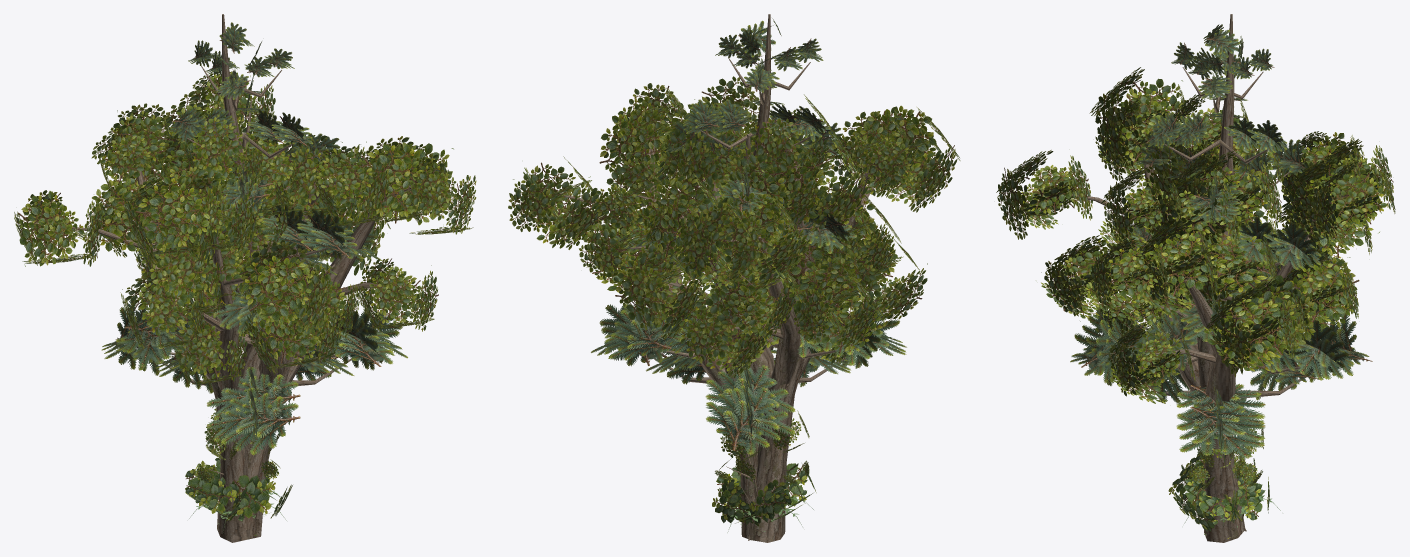
Rendered from flora-low-r15.glb.
3 renders of one model, left to right at view 1: azimuth 30°, elevation 25°; view 2: azimuth 150°, elevation 25°; view 3: azimuth 270°, elevation 25°, orthographic. The views are drawn at different scales.
Visible parts, largest first — view 1: alderTall_volumetric_leaf_clusters, alder_volumetric_leaf_clusters, pine_volumetric_leaf_clusters, alderTall_rooted_branch_skeleton, hazelShrub_botanical_foliage, alder_rooted_branch_skeleton, pine_rooted_branch_skeleton, alderSapling_botanical_foliage; view 2: alderTall_volumetric_leaf_clusters, alder_volumetric_leaf_clusters, pine_volumetric_leaf_clusters, alderTall_rooted_branch_skeleton, hazelShrub_botanical_foliage, pine_rooted_branch_skeleton, alder_rooted_branch_skeleton, alderSapling_botanical_foliage; view 3: alder_volumetric_leaf_clusters, pine_volumetric_leaf_clusters, alderTall_volumetric_leaf_clusters, alder_rooted_branch_skeleton, hazelShrub_botanical_foliage, pine_rooted_branch_skeleton, alderSapling_botanical_foliage, alderTall_rooted_branch_skeleton.
Part boxes in pixels (<box>): alderTall_volumetric_leaf_clusters: <box>14,103,389,350</box>; alder_volumetric_leaf_clusters: <box>90,71,476,384</box>; pine_volumetric_leaf_clusters: <box>101,22,407,455</box>; alderTall_rooted_branch_skeleton: <box>61,156,339,542</box>; hazelShrub_botanical_foliage: <box>185,458,292,521</box>; alder_rooted_branch_skeleton: <box>156,132,425,539</box>; pine_rooted_branch_skeleton: <box>162,14,351,539</box>; alderSapling_botanical_foliage: <box>195,408,282,482</box>; alderTall_volumetric_leaf_clusters: <box>577,72,960,378</box>; alder_volumetric_leaf_clusters: <box>508,83,901,363</box>; pine_volumetric_leaf_clusters: <box>591,18,906,456</box>; alderTall_rooted_branch_skeleton: <box>625,120,900,542</box>; hazelShrub_botanical_foliage: <box>712,463,816,526</box>; pine_rooted_branch_skeleton: <box>654,14,862,539</box>; alder_rooted_branch_skeleton: <box>558,118,846,540</box>; alderSapling_botanical_foliage: <box>715,410,809,483</box>; alder_volumetric_leaf_clusters: <box>1041,151,1395,403</box>; pine_volumetric_leaf_clusters: <box>1070,24,1372,465</box>; alderTall_volumetric_leaf_clusters: <box>996,67,1393,383</box>; alder_rooted_branch_skeleton: <box>1093,147,1349,542</box>; hazelShrub_botanical_foliage: <box>1168,451,1269,531</box>; pine_rooted_branch_skeleton: <box>1130,14,1312,542</box>; alderSapling_botanical_foliage: <box>1187,420,1263,490</box>; alderTall_rooted_branch_skeleton: <box>1057,131,1297,537</box>.
Size of the model in its own units: 7.35 by 9.21 by 6.55.
Materials: 4 (3 with a texture image).
